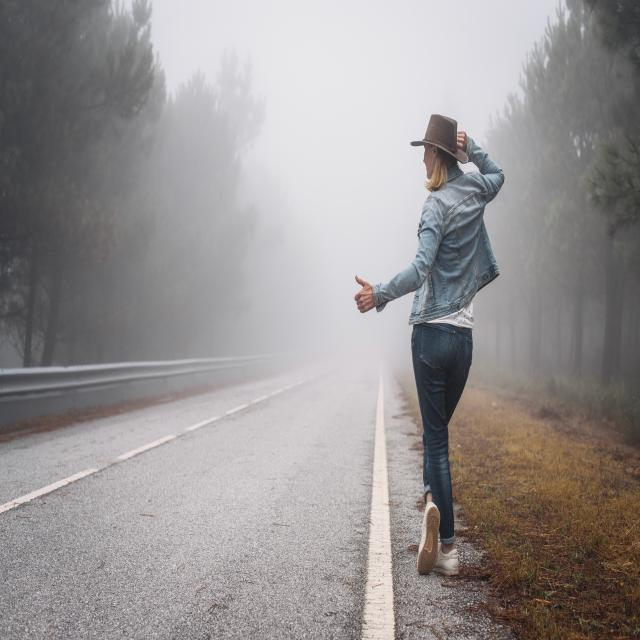adult: (354, 116, 504, 572)
